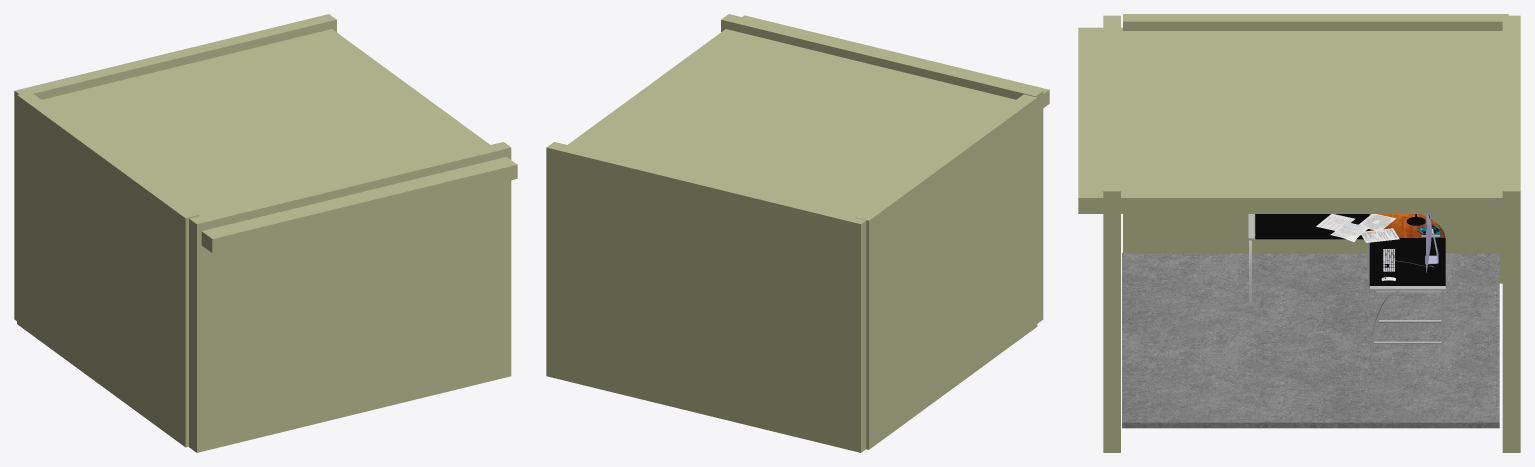
Rendered from deskfbx.FBX.
3 views of the same model, side by side, from view 1: azimuth 30°, elevation 25°; view 2: azimuth 150°, elevation 25°; view 3: azimuth 270°, elevation 25° (orthographic). The views are drawn at different scales.
Visible parts, largest first — view 1: Box164, Box043, Box163, Box162; view 2: Box162, Box043, Box163, Box164; view 3: Box043, Box040, Box163, Box162, Box164, Box001, Box002, Cylinder001.
Part boxes in pixels (x1=…): Box164: x1=189, y1=142, x2=511, y2=452; Box043: x1=42, y1=29, x2=517, y2=253; Box163: x1=17, y1=92, x2=198, y2=447; Box162: x1=14, y1=14, x2=336, y2=320; Box162: x1=546, y1=142, x2=866, y2=452; Box043: x1=568, y1=15, x2=1049, y2=215; Box163: x1=855, y1=94, x2=1037, y2=449; Box164: x1=721, y1=14, x2=1043, y2=323; Box043: x1=1078, y1=27, x2=1502, y2=213; Box040: x1=1122, y1=252, x2=1499, y2=428; Box163: x1=1123, y1=14, x2=1508, y2=283; Box162: x1=1502, y1=15, x2=1520, y2=452; Box164: x1=1103, y1=15, x2=1120, y2=452; Box001: x1=1369, y1=238, x2=1445, y2=285; Box002: x1=1255, y1=214, x2=1369, y2=239; Cylinder001: x1=1369, y1=214, x2=1445, y2=237.
Bounding box in the file's own units: 3361 × 2320 × 3547.
